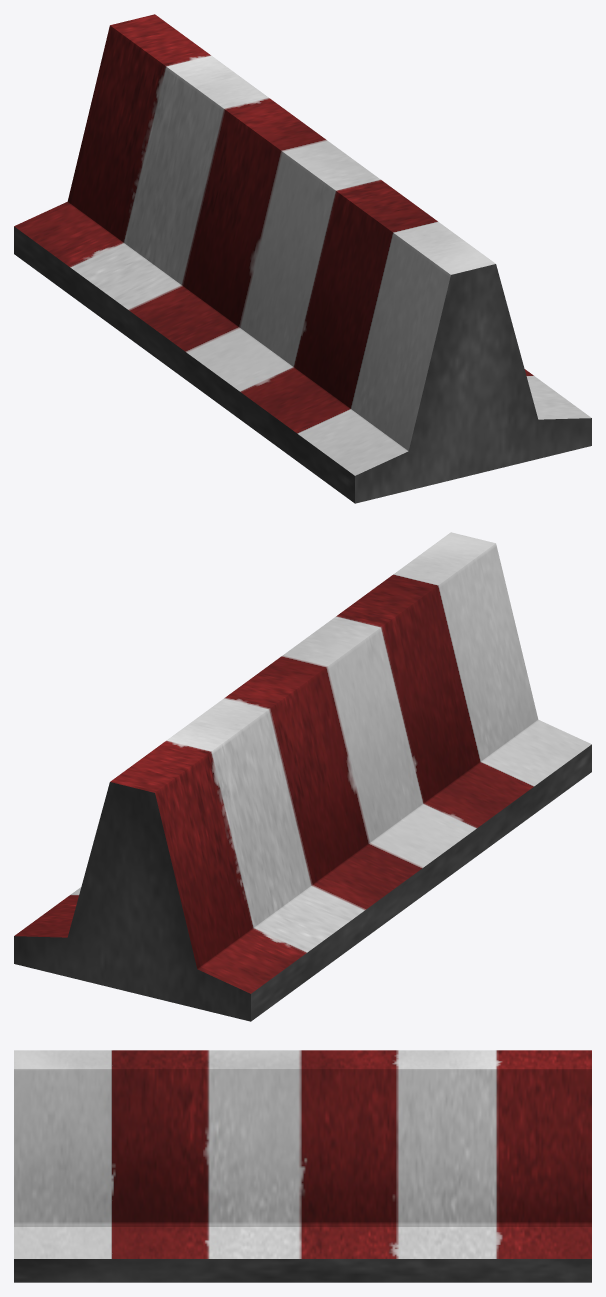
Rendered from hulan_C.FBX.
The picture shows the model from 3 angles, top to bottom: view 1: azimuth 30°, elevation 25°; view 2: azimuth 150°, elevation 25°; view 3: azimuth 270°, elevation 25°; orthographic projection. The views are drawn at different scales.
Visible parts, largest first — view 1: HULAN_c; view 2: HULAN_c; view 3: HULAN_c.
Boxes of the visible parts, x1,y1,x2,y2 form: HULAN_c: [14, 14, 591, 503]; HULAN_c: [14, 532, 591, 1021]; HULAN_c: [14, 1050, 591, 1282].
Bounding box in the file's own units: 64.67 × 53.57 × 161.
